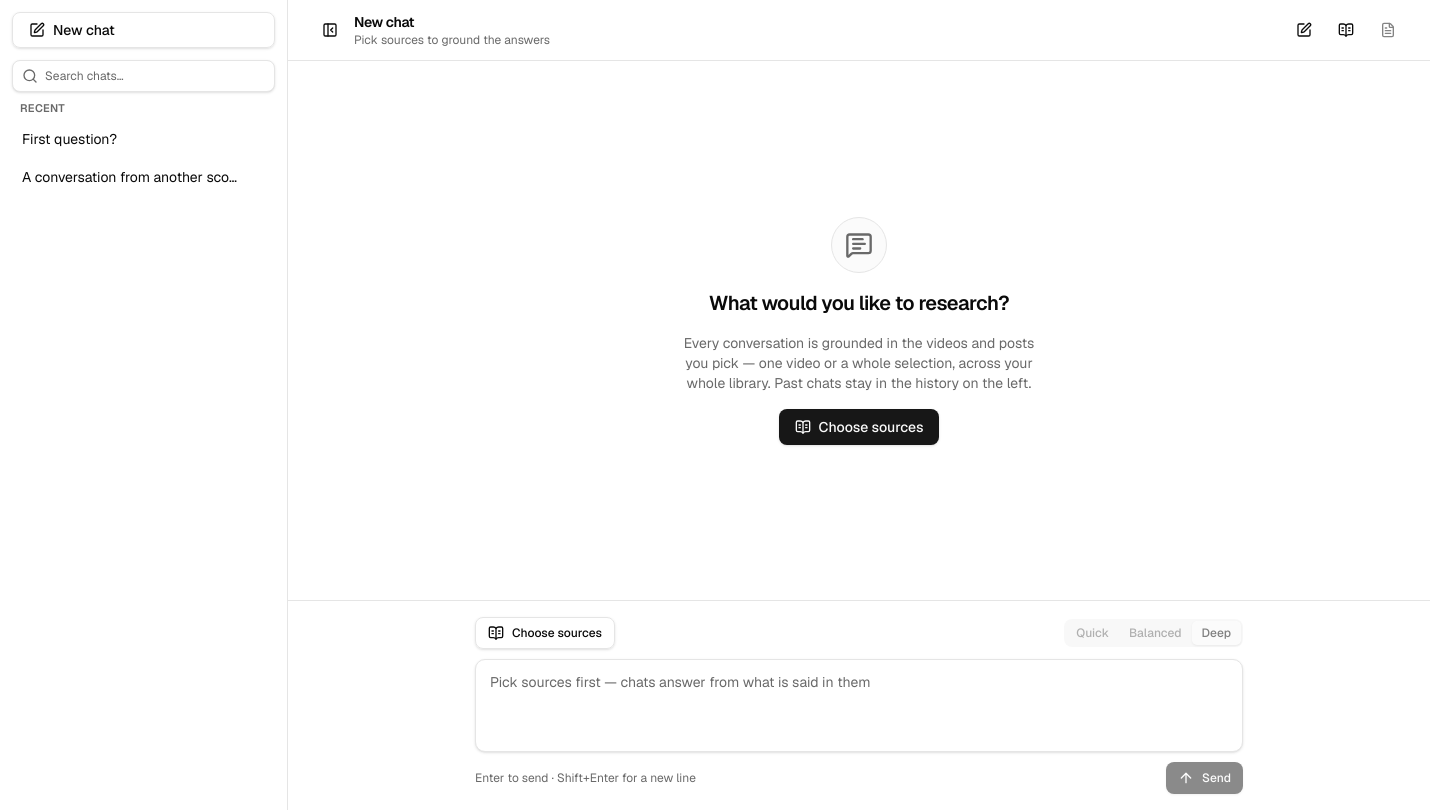
Scenario: ChatWorkspace — picking sources for a fresh chat › opens the picker, offers every video, and confirms a scope
Click the button "Choose sources" below "What would you like to research?" at (859, 426), box top-left (778, 408), bottom-right (939, 444)
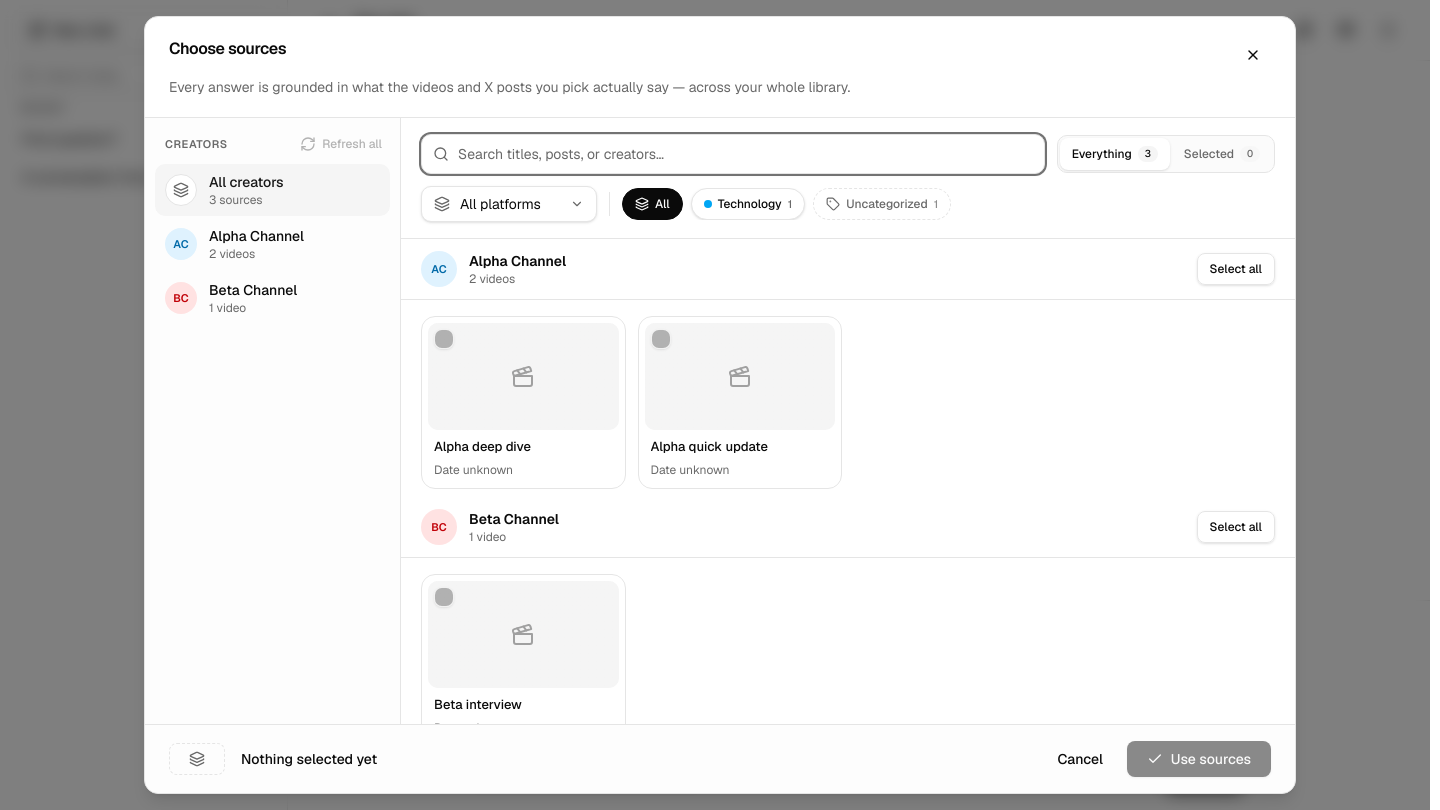
Now the heading "Choose sources" is shown, box top-left (169, 37), bottom-right (286, 61)
Now the checkbox named "Select Alpha quick update" is enabled, box top-left (650, 329), bottom-right (670, 349)
Click the checkbox named "Select Alpha deep dive" at (444, 339), box top-left (434, 329), bottom-right (454, 349)
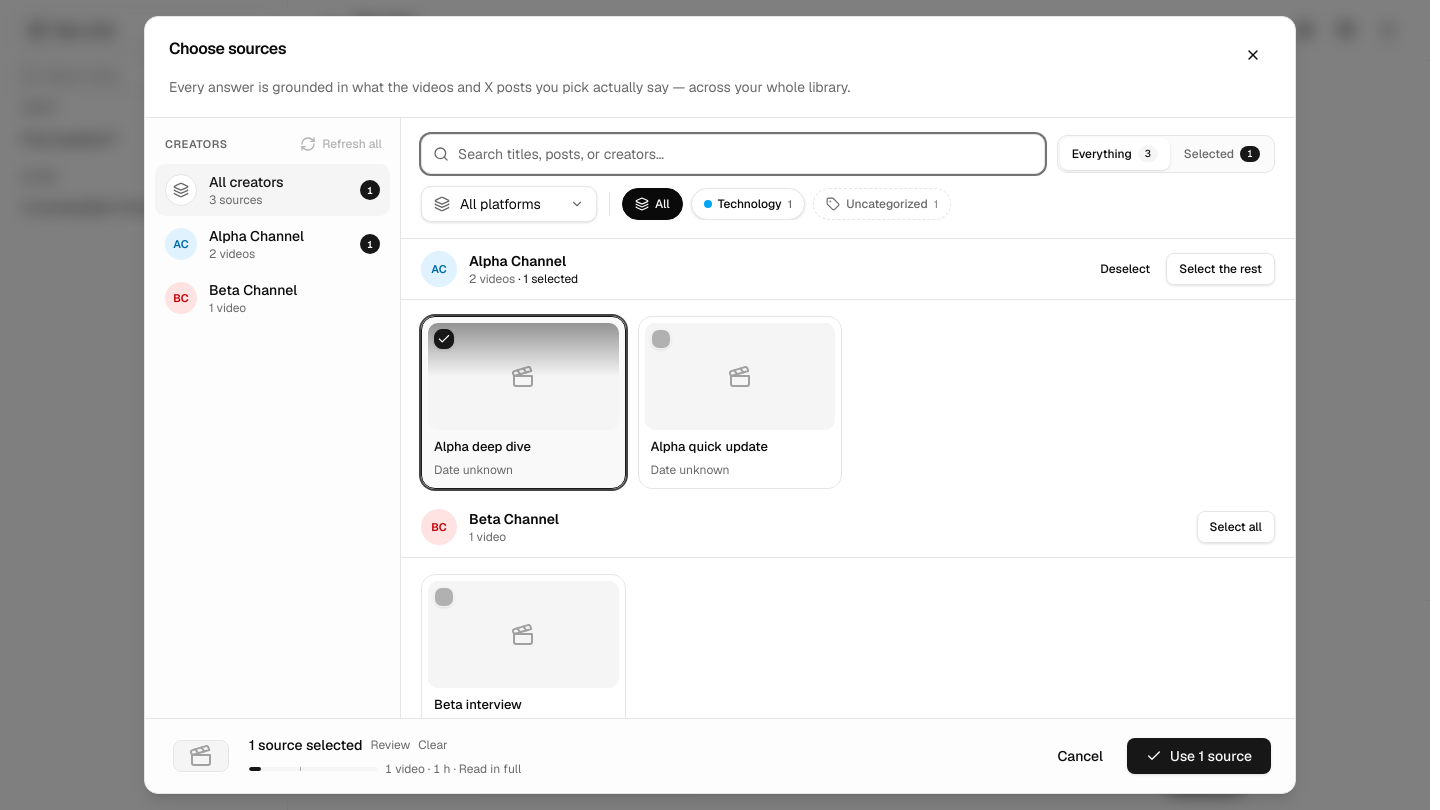
Click the button "Use 1 source" at (1199, 756), box top-left (1127, 738), bottom-right (1271, 774)
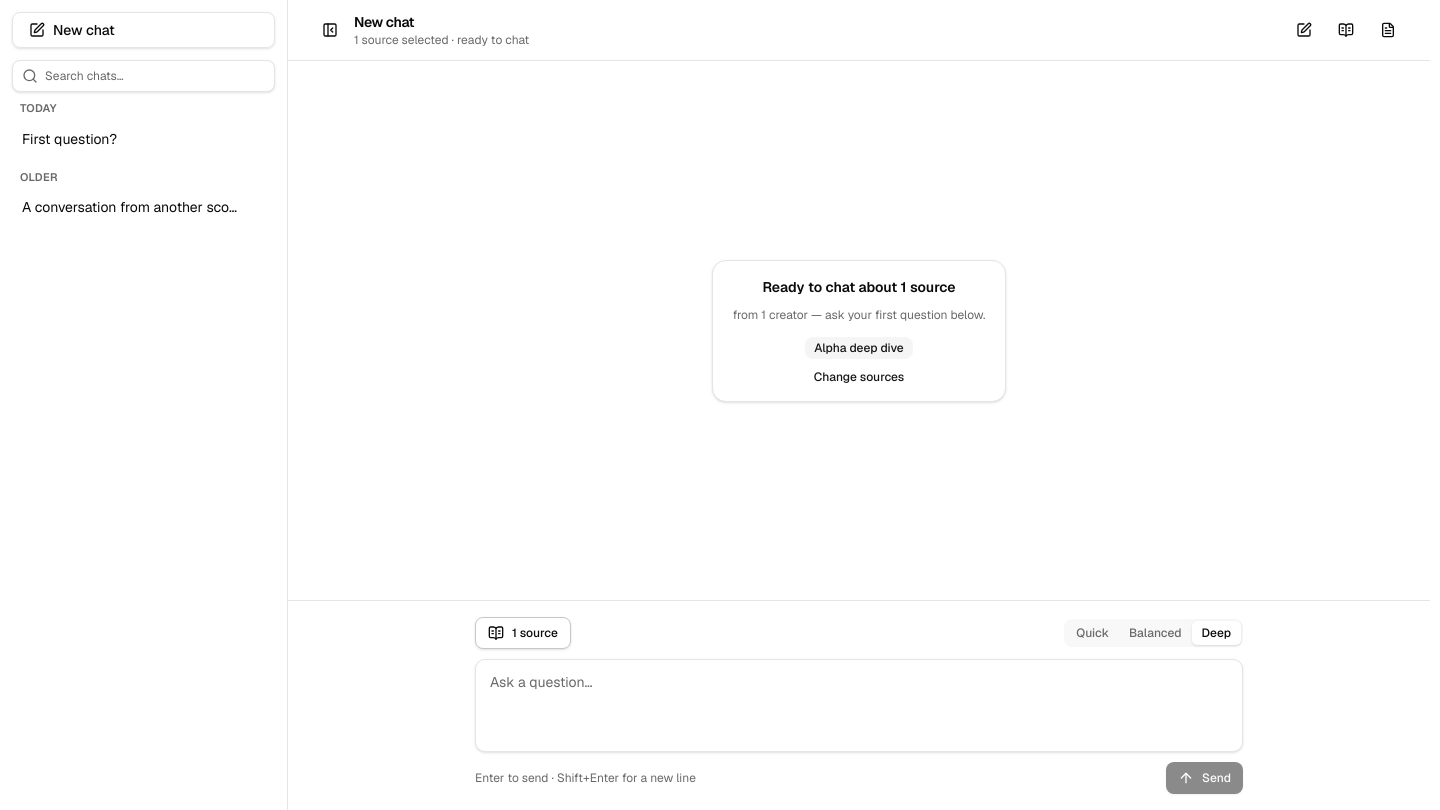
Now the dialog is gone
Now the text "Ready to chat about 1 source" is shown, box top-left (762, 276), bottom-right (956, 296)
Now the text box named "Your message" is enabled
Type "Summarize the deep dive" into the text box named "Your message" at (859, 702), box top-left (476, 660), bottom-right (1242, 744)
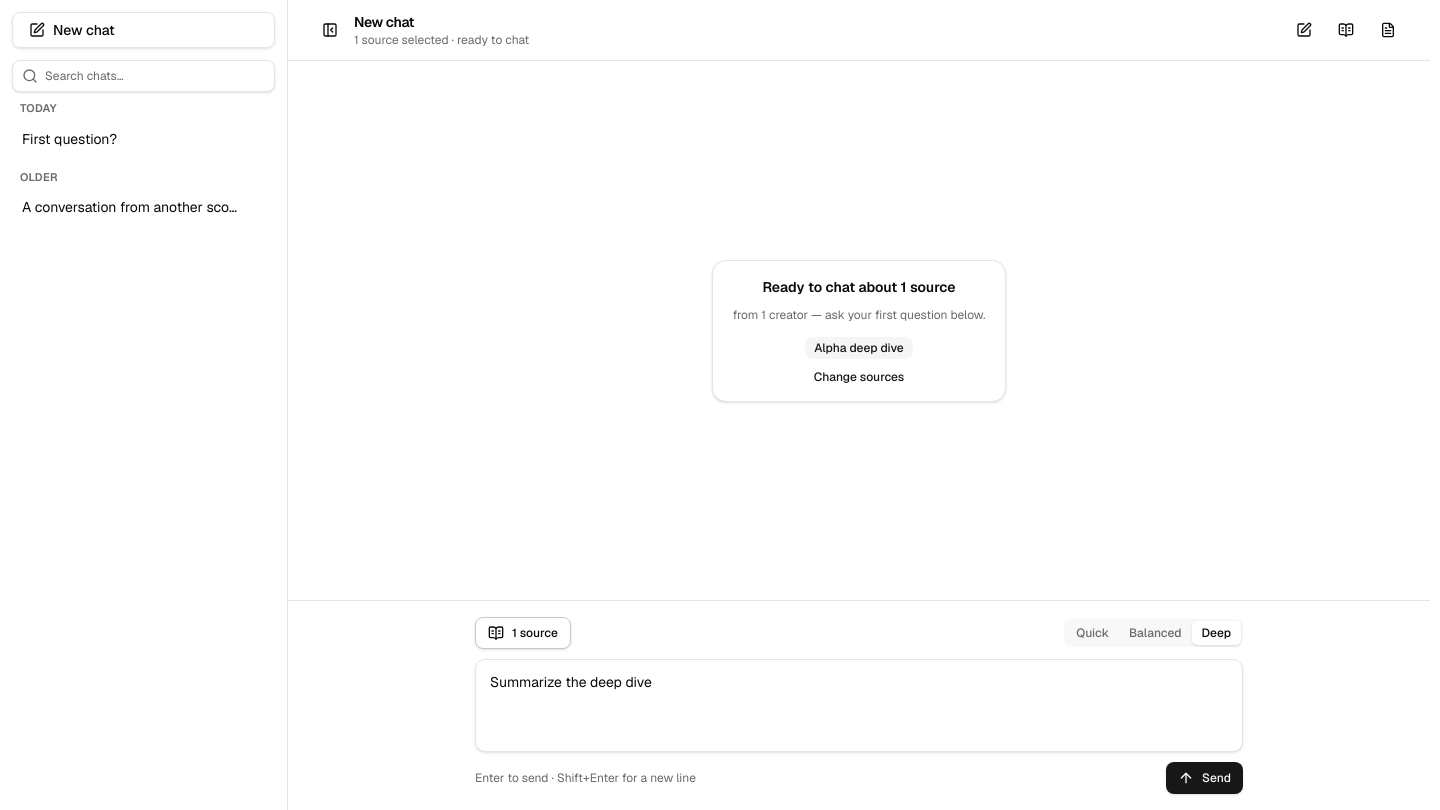
Click the button "Send" at (1204, 778), box top-left (1166, 762), bottom-right (1243, 794)
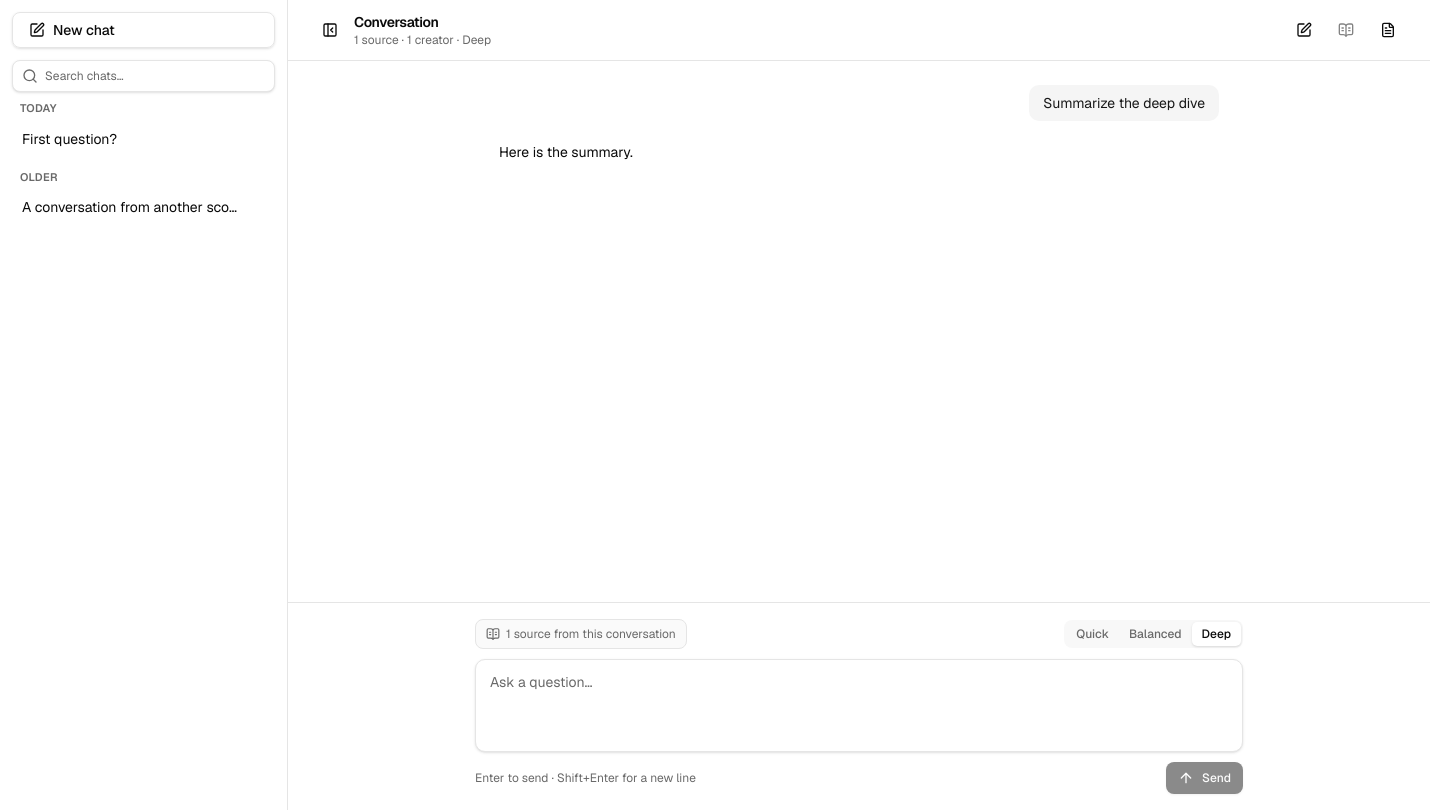
Now the text "Here is the summary." is shown, box top-left (499, 143), bottom-right (633, 161)
